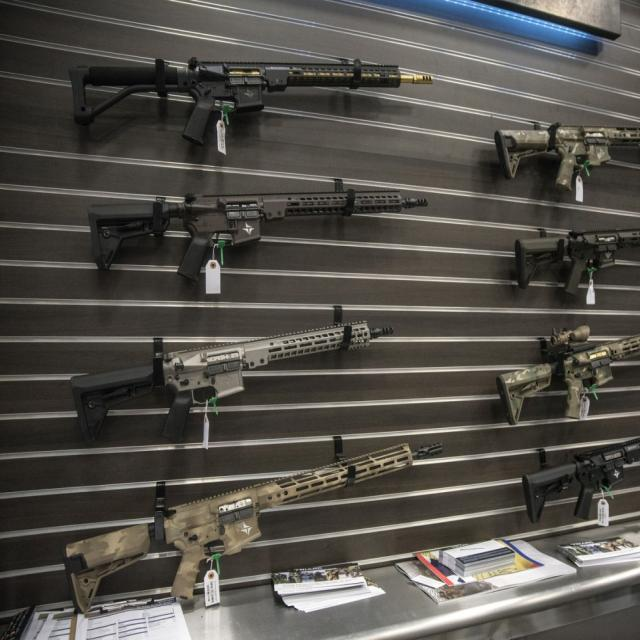Rifle: (64, 439, 444, 617), (71, 324, 393, 443), (87, 185, 427, 280), (70, 60, 436, 145)
